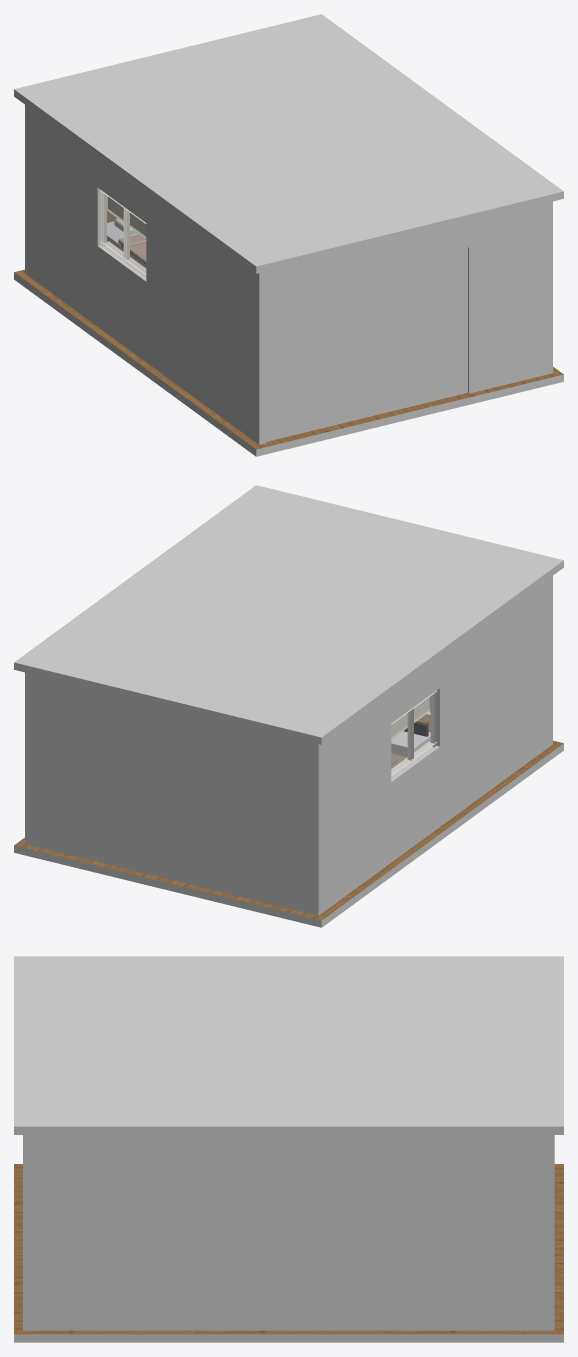
File: room.glb
The picture shows the model from 3 angles, top to bottom: view 1: azimuth 30°, elevation 25°; view 2: azimuth 150°, elevation 25°; view 3: azimuth 270°, elevation 25°; orthographic projection. The views are drawn at different scales.
Parts seen in each view (by area): view 1: col_02_room_ceiling, col_11_wall_south, col_08_wall_west, col_09_wall_south, col_07_wall_west, col_10_wall_south, col_01_room_floor, col_05_wall_west, room_floor, window, col_06_wall_west, bed (+1 smaller); view 2: col_02_room_ceiling, col_03_wall_north_east, col_08_wall_west, col_07_wall_west, col_01_room_floor, col_05_wall_west, room_floor, window, col_06_wall_west, col_04_wall_north_east, col_19_furniture; view 3: col_04_wall_north_east, col_02_room_ceiling, room_floor, col_01_room_floor, col_03_wall_north_east, col_09_wall_south.
Part boxes in pixels (<box>): col_02_room_ceiling: <box>14,14,563,273</box>; col_11_wall_south: <box>266,247,467,441</box>; col_08_wall_west: <box>146,193,266,444</box>; col_09_wall_south: <box>468,201,552,393</box>; col_07_wall_west: <box>25,105,99,326</box>; col_10_wall_south: <box>255,222,468,297</box>; col_01_room_floor: <box>14,272,563,456</box>; col_05_wall_west: <box>97,245,146,361</box>; room_floor: <box>14,269,563,449</box>; window: <box>100,189,146,276</box>; col_06_wall_west: <box>97,158,146,222</box>; bed: <box>107,211,146,264</box>; col_02_room_ceiling: <box>14,485,563,744</box>; col_03_wall_north_east: <box>25,674,322,915</box>; col_08_wall_west: <box>435,579,552,826</box>; col_07_wall_west: <box>311,694,391,915</box>; col_01_room_floor: <box>14,743,563,927</box>; col_05_wall_west: <box>391,745,439,862</box>; room_floor: <box>14,717,563,920</box>; window: <box>391,691,436,777</box>; col_06_wall_west: <box>391,658,439,723</box>; col_04_wall_north_east: <box>25,672,31,845</box>; col_19_furniture: <box>391,731,430,757</box>; col_04_wall_north_east: <box>32,1135,545,1330</box>; col_02_room_ceiling: <box>14,956,563,1134</box>; room_floor: <box>14,1164,563,1334</box>; col_01_room_floor: <box>14,1334,563,1342</box>; col_03_wall_north_east: <box>545,1135,554,1330</box>; col_09_wall_south: <box>23,1135,32,1330</box>.
Bounding box in the file's own units: 4.4 × 2.6 × 6.
46 materials, 6 textured.
